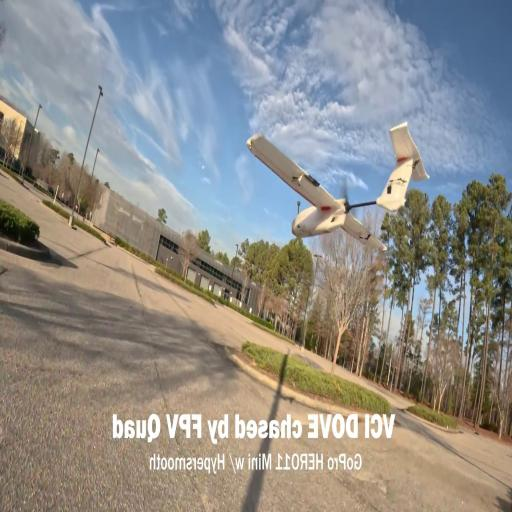uav: (244, 111, 433, 257)
